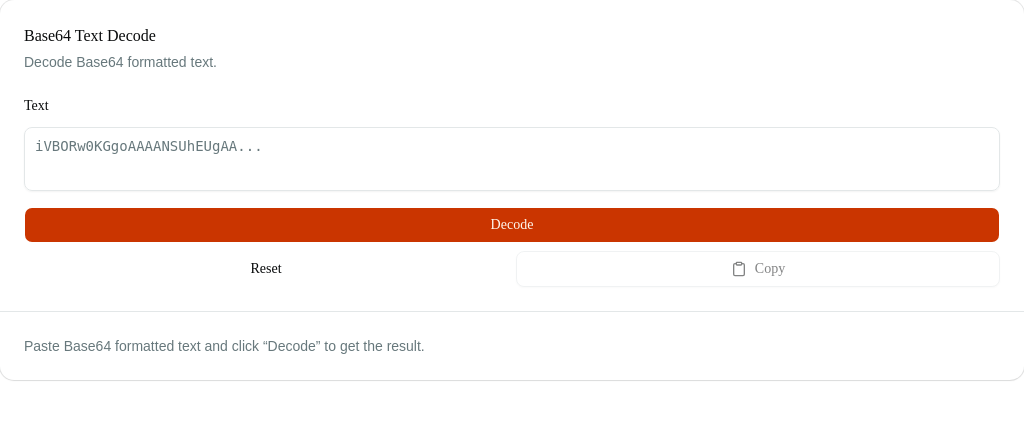
Test: Base64TextDecode › validation › shows error for invalid base64
Type "not-valid-base64!!!" into the text box labelled "Text".
click(512, 159); type("not-valid-base64!!!")  # box top-left (24, 127), bottom-right (1000, 191)
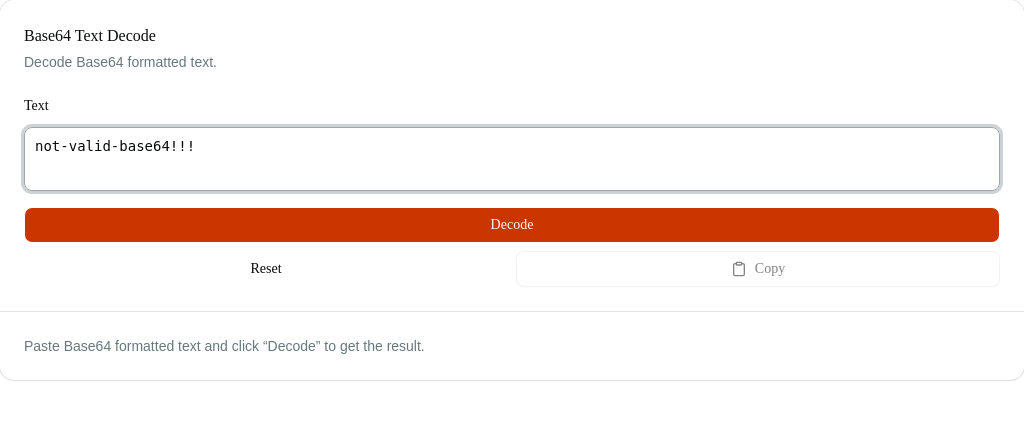
Click the button "Decode".
click(512, 225)  # box top-left (24, 207), bottom-right (1000, 243)
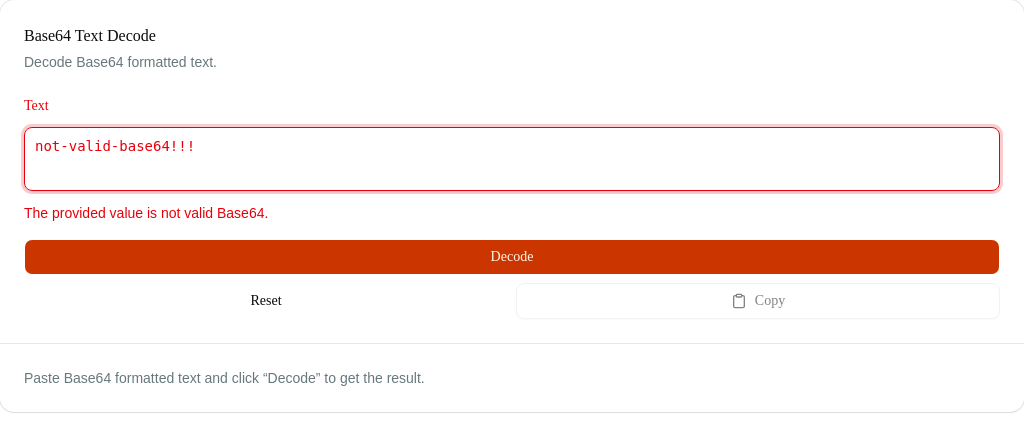
expect the message shows "not valid Base64": met, box top-left (24, 205), bottom-right (268, 221)
